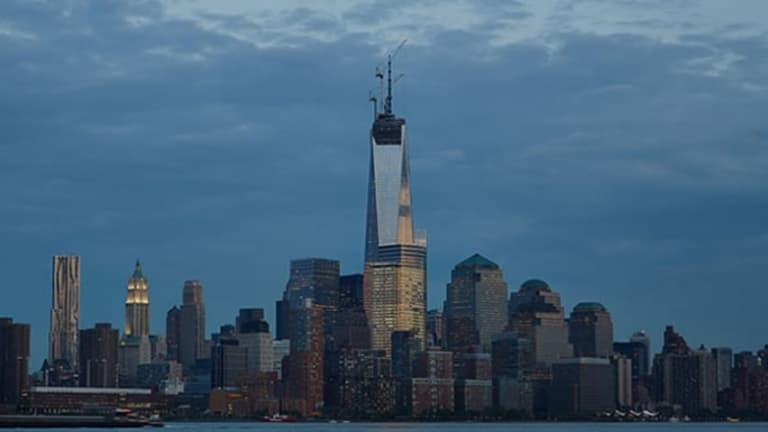wtc: (368, 62, 410, 248)
